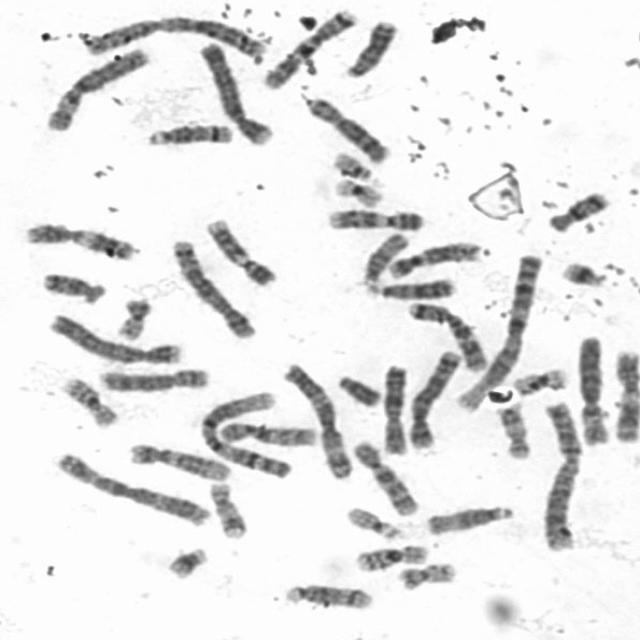A1: (450, 247, 545, 414), (193, 384, 294, 480)
A2: (76, 10, 274, 60), (536, 392, 586, 554)
A3: (48, 446, 214, 527), (277, 358, 357, 482)
B4: (194, 35, 276, 147), (42, 307, 186, 367)
B5: (166, 232, 259, 340), (403, 343, 465, 451)
C10: (346, 433, 422, 518), (214, 416, 322, 448)
C11: (17, 216, 142, 262), (608, 343, 639, 445)
C12: (122, 436, 235, 482), (382, 235, 485, 279)
C6: (38, 40, 152, 133), (572, 329, 613, 446)
C7: (256, 2, 360, 90), (400, 294, 493, 374)
C8: (297, 89, 392, 166), (92, 361, 213, 394)
C9: (199, 212, 281, 288), (319, 202, 427, 233)
D13: (339, 13, 401, 79), (360, 271, 460, 301)
D14: (278, 577, 378, 611), (140, 116, 236, 148)
D15: (421, 498, 518, 537), (355, 226, 412, 288)
E16: (55, 370, 121, 430), (348, 538, 432, 573)
E17: (203, 476, 251, 540), (492, 396, 534, 462)
E18: (541, 185, 614, 234), (36, 266, 110, 306)
F19: (507, 362, 572, 396), (327, 172, 387, 208)
F20: (108, 290, 154, 342), (394, 556, 460, 591)
G21: (160, 540, 213, 580), (554, 254, 611, 289)
G22: (341, 501, 407, 542), (327, 146, 379, 183)
X: (376, 358, 412, 456)
Y: (331, 368, 384, 408)
